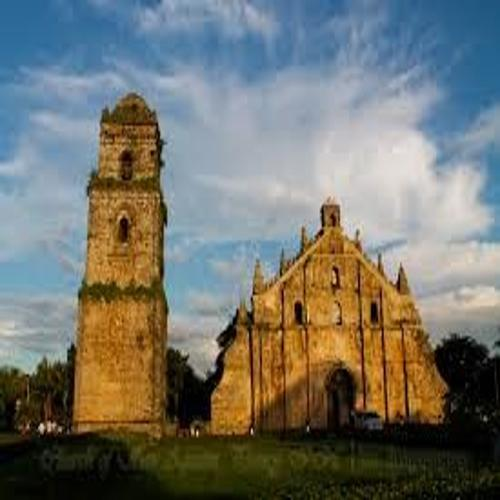Paoay Church: (67, 73, 457, 435)
